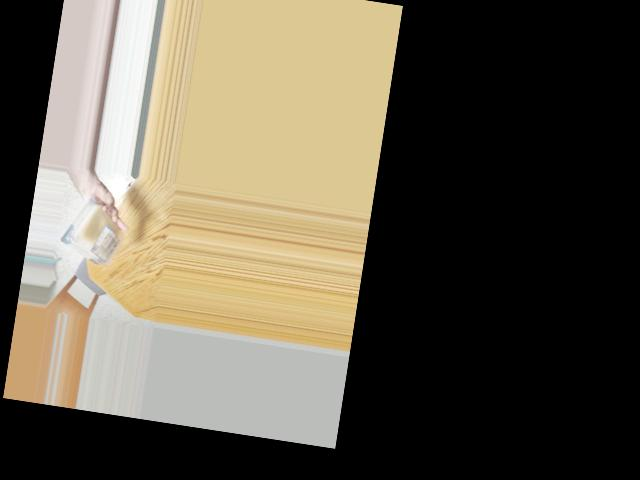cheese: (64, 197, 127, 272)
